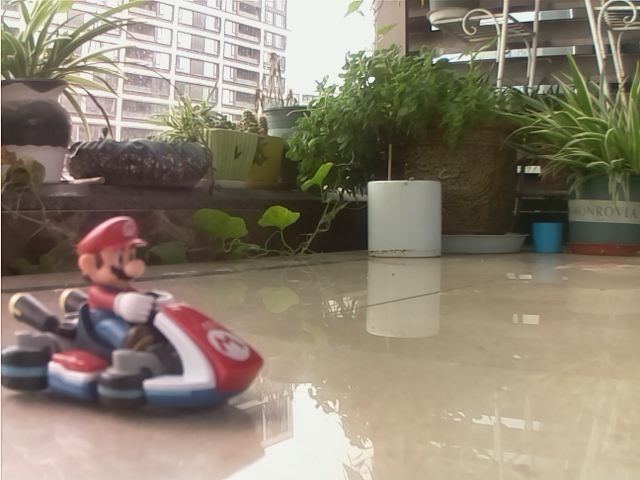mario: (5, 213, 268, 426)
